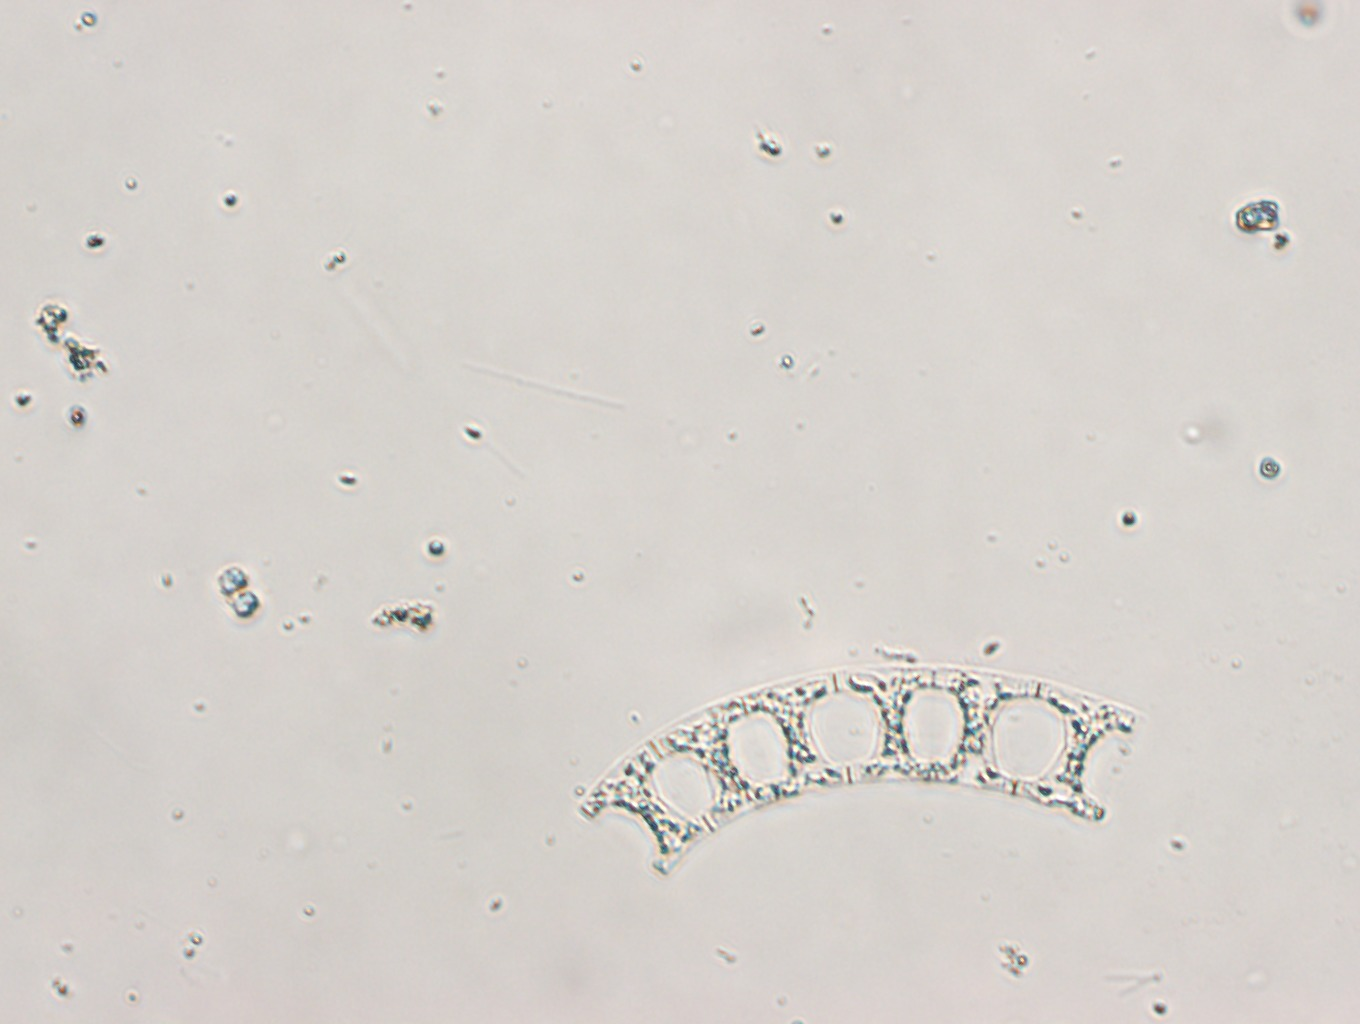eucampia: (574, 663, 1142, 881)
